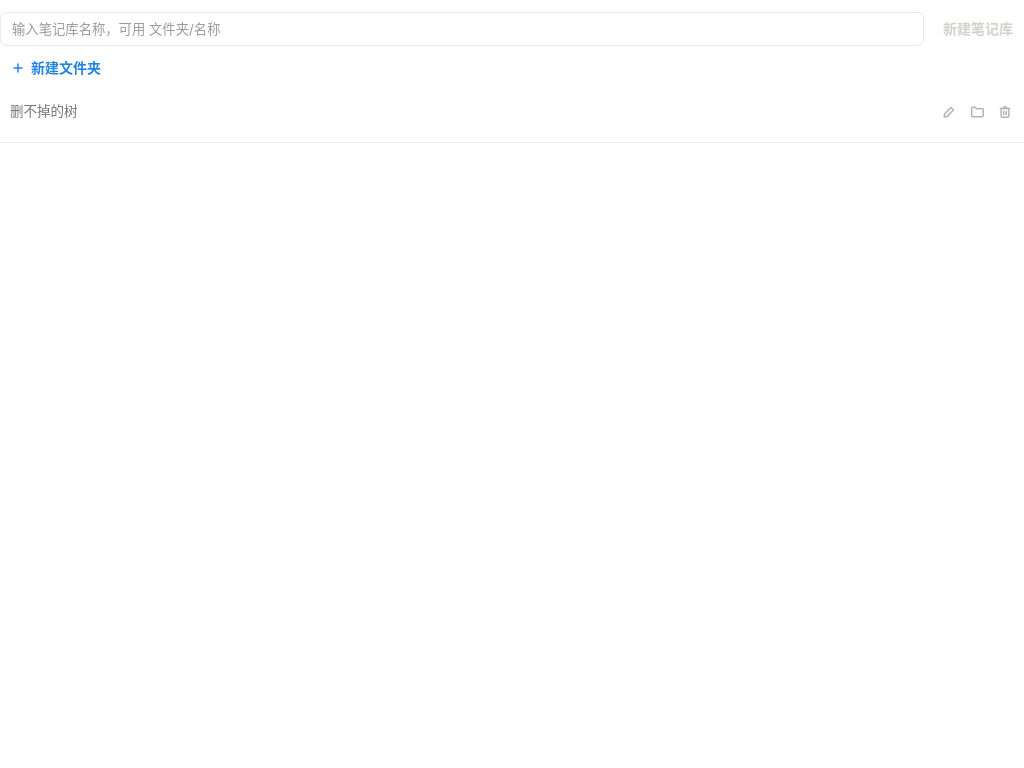
Test: TreeLauncher › keeps the dialog open with an inline error when deleting a tree fails
Expected: the button "删不掉的树" is shown, [0, 94, 940, 130]
What coordinates should you click on to do the following:
click the button named "删除“删不掉的树”"
I would click on:
 (1011, 112)
Its box is [998, 98, 1023, 126].
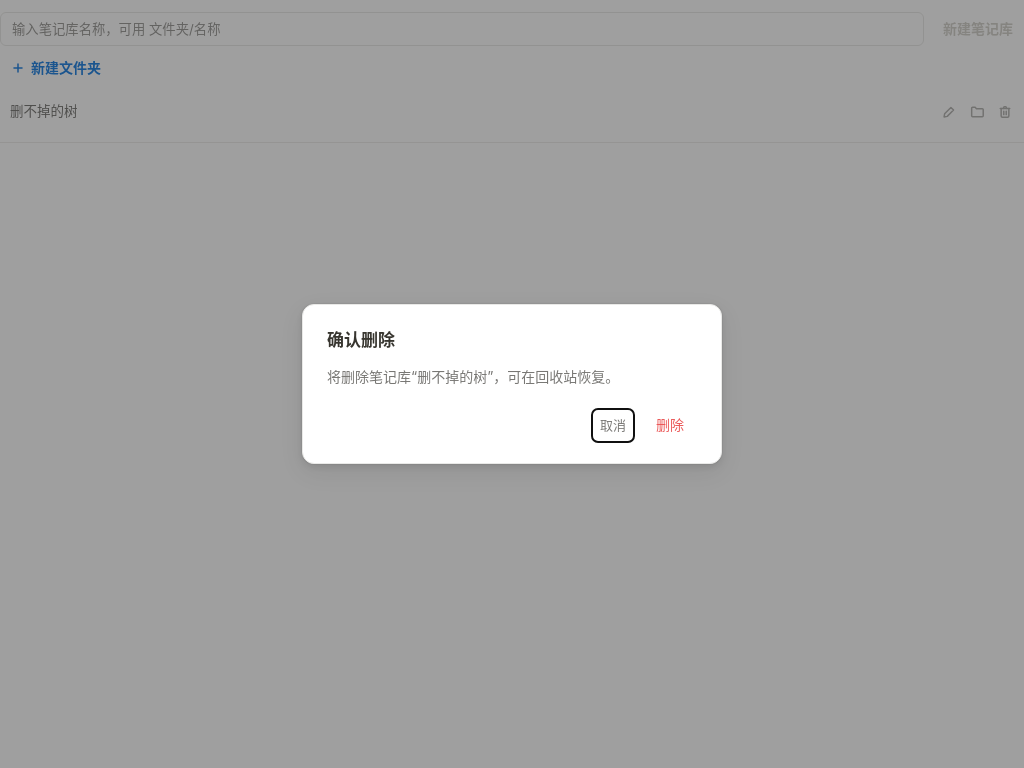
What coordinates should you click on to do the following:
click the button "删除"
I would click on:
 (670, 426)
Its box is [643, 408, 697, 443].
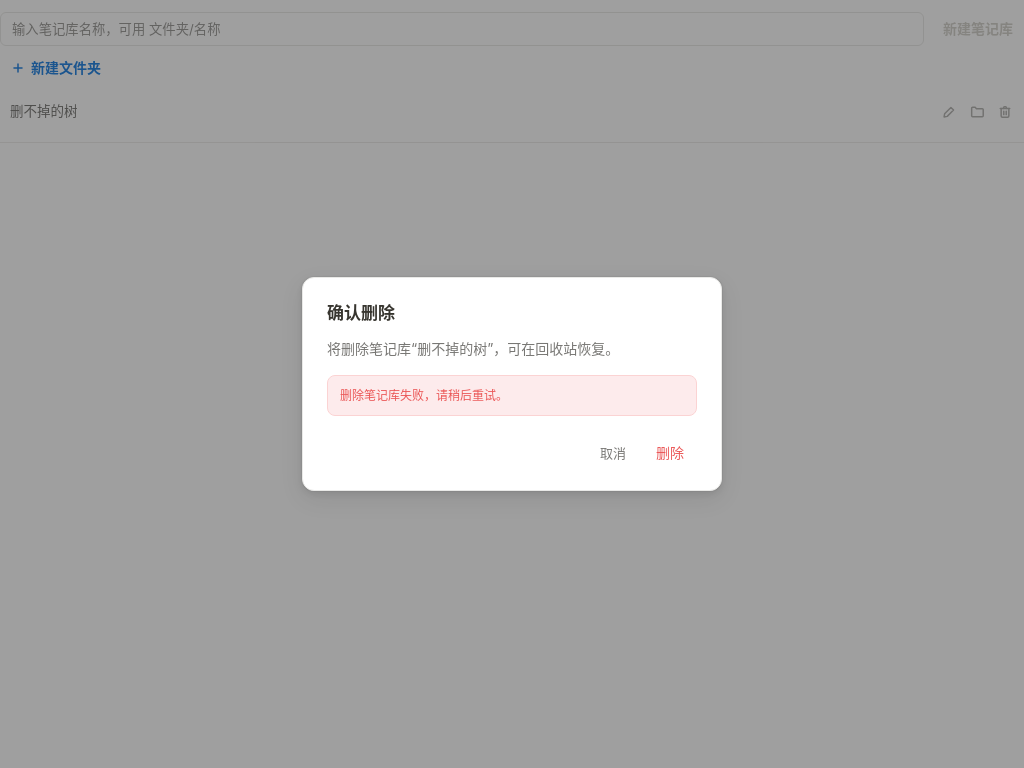
Expected: the button "删不掉的树" is shown, [0, 94, 940, 130]
Expected: the dialog is shown, [302, 277, 722, 491]
Expected: the message reads "删除笔记库失败，请稍后重试。", [340, 388, 508, 403]
